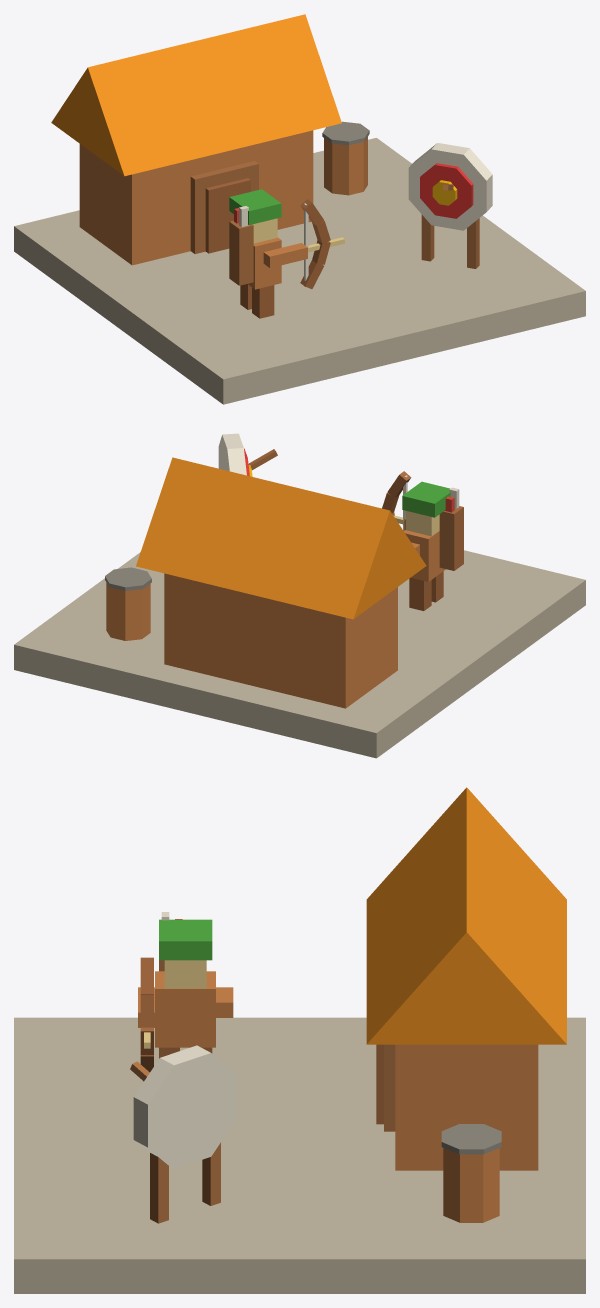
The model's file is archery_range_t1_v1.glb.
The picture shows the model from 3 angles, top to bottom: view 1: azimuth 30°, elevation 25°; view 2: azimuth 150°, elevation 25°; view 3: azimuth 270°, elevation 25°; orthographic projection. The views are drawn at different scales.
Visible parts, largest first — view 1: archery_range_t1_v1; view 2: archery_range_t1_v1; view 3: archery_range_t1_v1.
Part boxes in pixels (box(x1,y1,x2,y2)): archery_range_t1_v1: box(14, 14, 585, 404); archery_range_t1_v1: box(14, 433, 585, 758); archery_range_t1_v1: box(14, 787, 585, 1293).
Bounding box in the file's own units: 0.6 × 0.33 × 0.6.
Materials: 1 (1 with a texture image).
